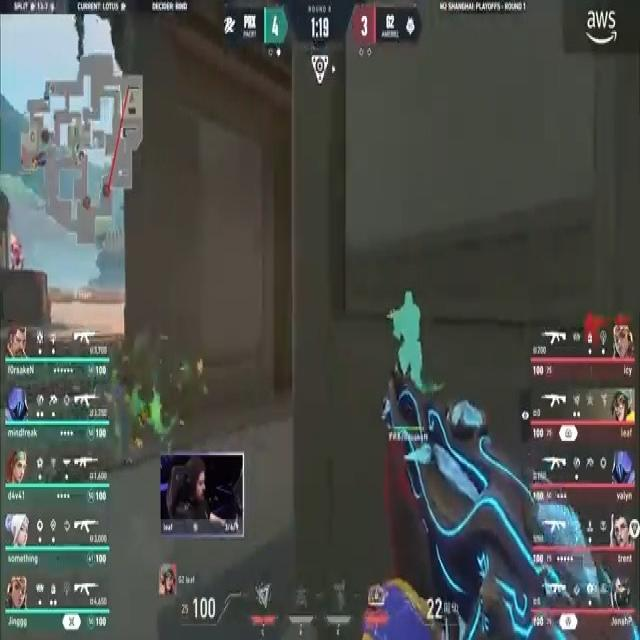enemy behind wall: (382, 290, 431, 409)
